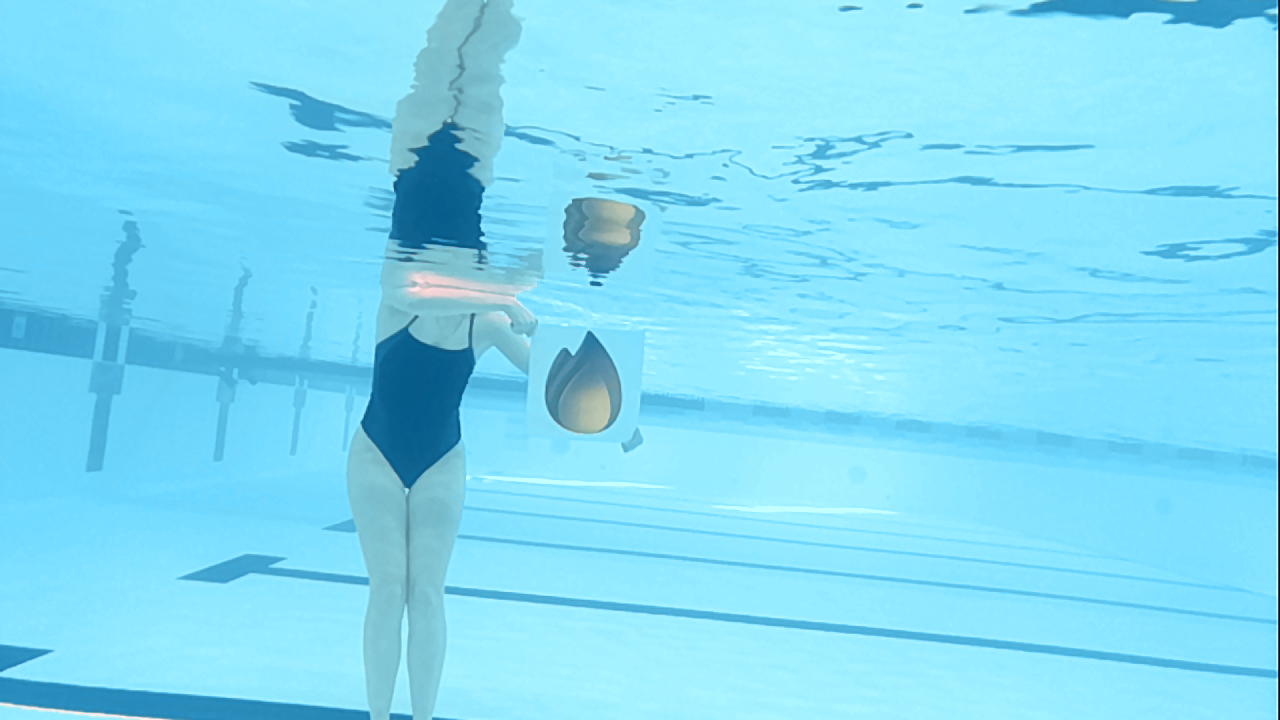fire: (532, 326, 640, 440)
